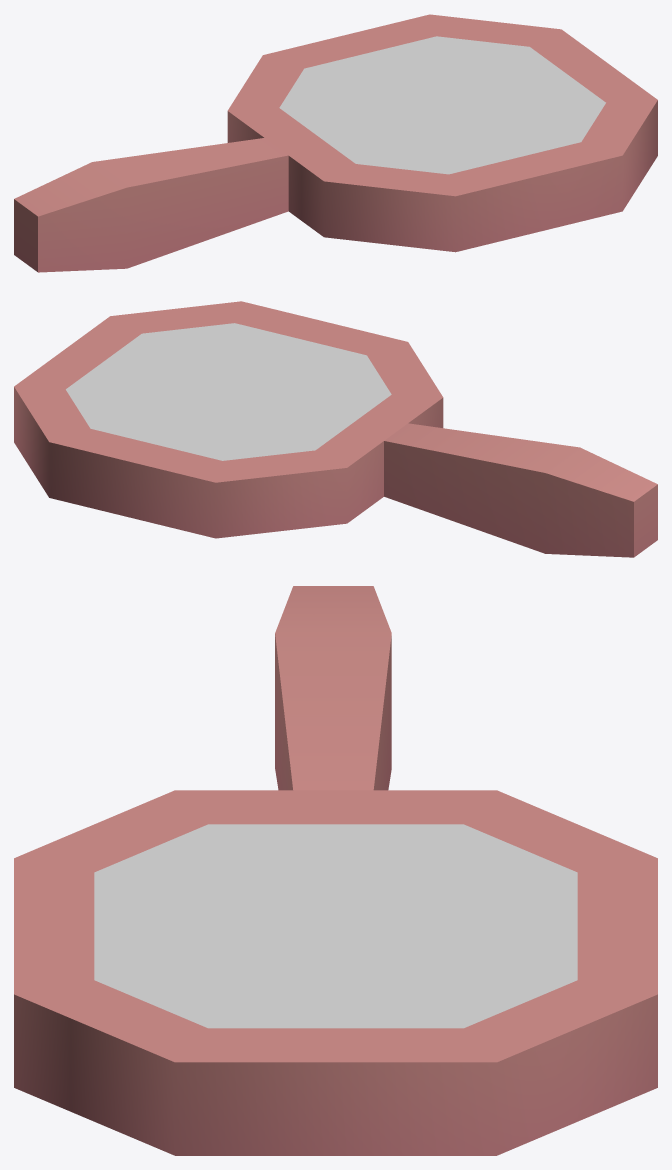
File: mirror-hand.glb
The picture shows the model from 3 angles, top to bottom: view 1: azimuth 30°, elevation 25°; view 2: azimuth 150°, elevation 25°; view 3: azimuth 270°, elevation 25°; orthographic projection. The views are drawn at different scales.
Visible parts, largest first — view 1: mirror-hand; view 2: mirror-hand; view 3: mirror-hand.
Part boxes in pixels (left/top/right/bottom): mirror-hand: left=14, top=14, right=657, bottom=272; mirror-hand: left=14, top=301, right=657, bottom=557; mirror-hand: left=14, top=586, right=657, bottom=1155.
Bounding box in the file's own units: 0.35 × 0.0464 × 0.2.
